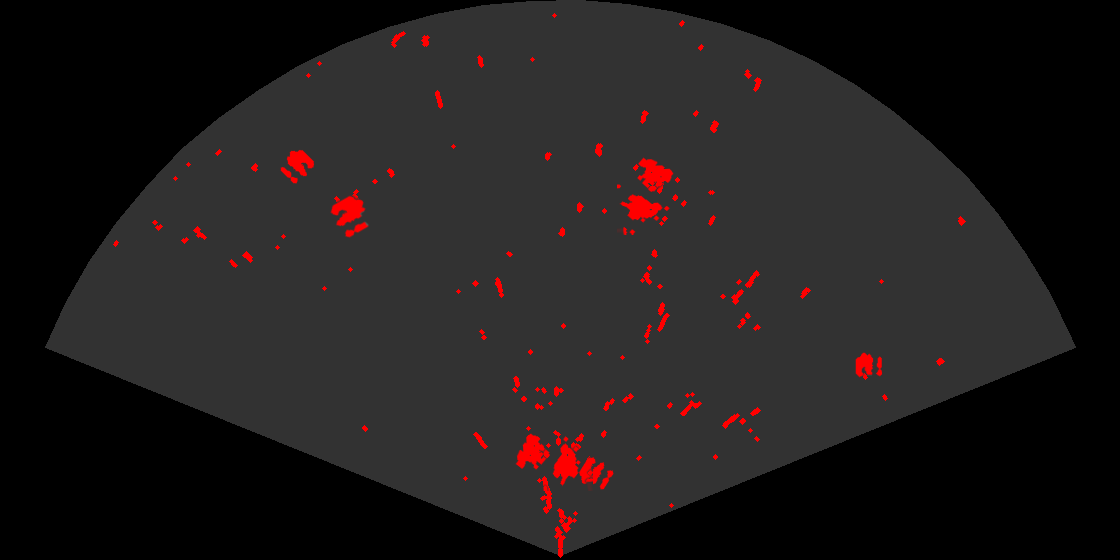ball: (329, 194, 370, 239), (279, 148, 316, 185), (577, 456, 615, 491), (854, 351, 884, 379)
cage: (514, 432, 593, 491), (617, 156, 675, 235)
